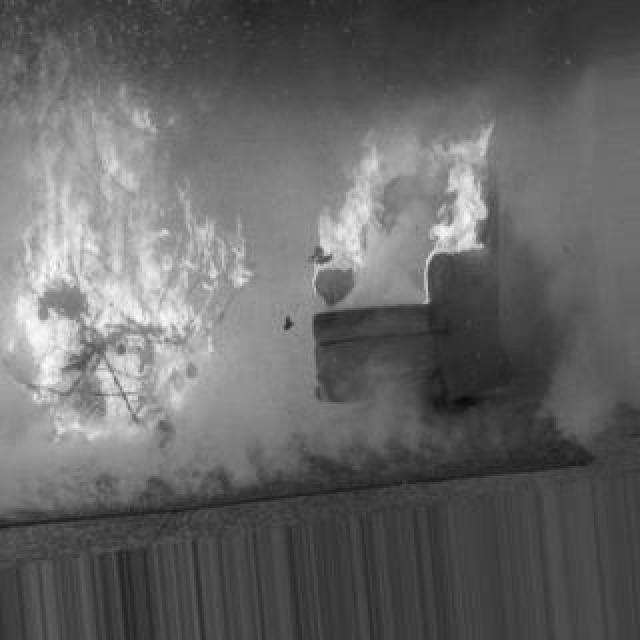Fire: (8, 126, 254, 434), (310, 132, 392, 270), (426, 122, 494, 258)
